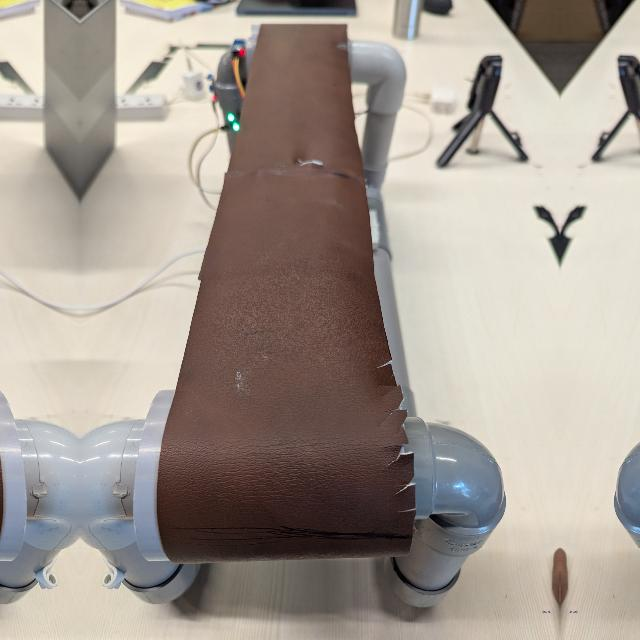joint_damage: (280, 150, 347, 173)
